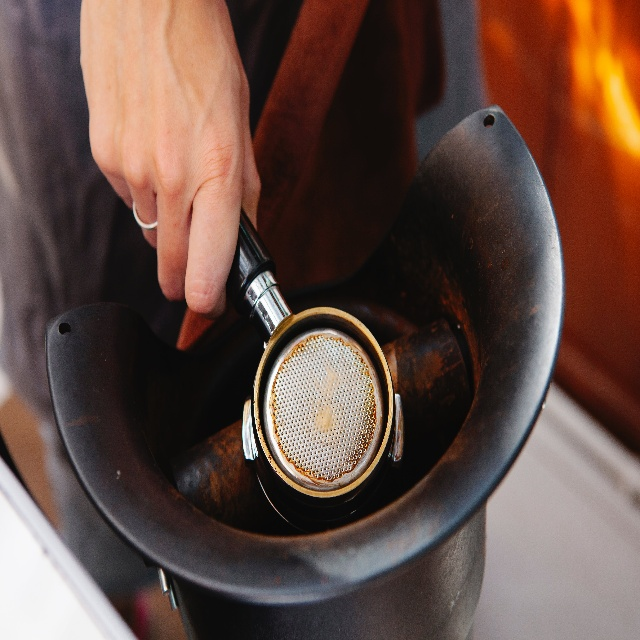Sin_guantes: (78, 0, 261, 319)
